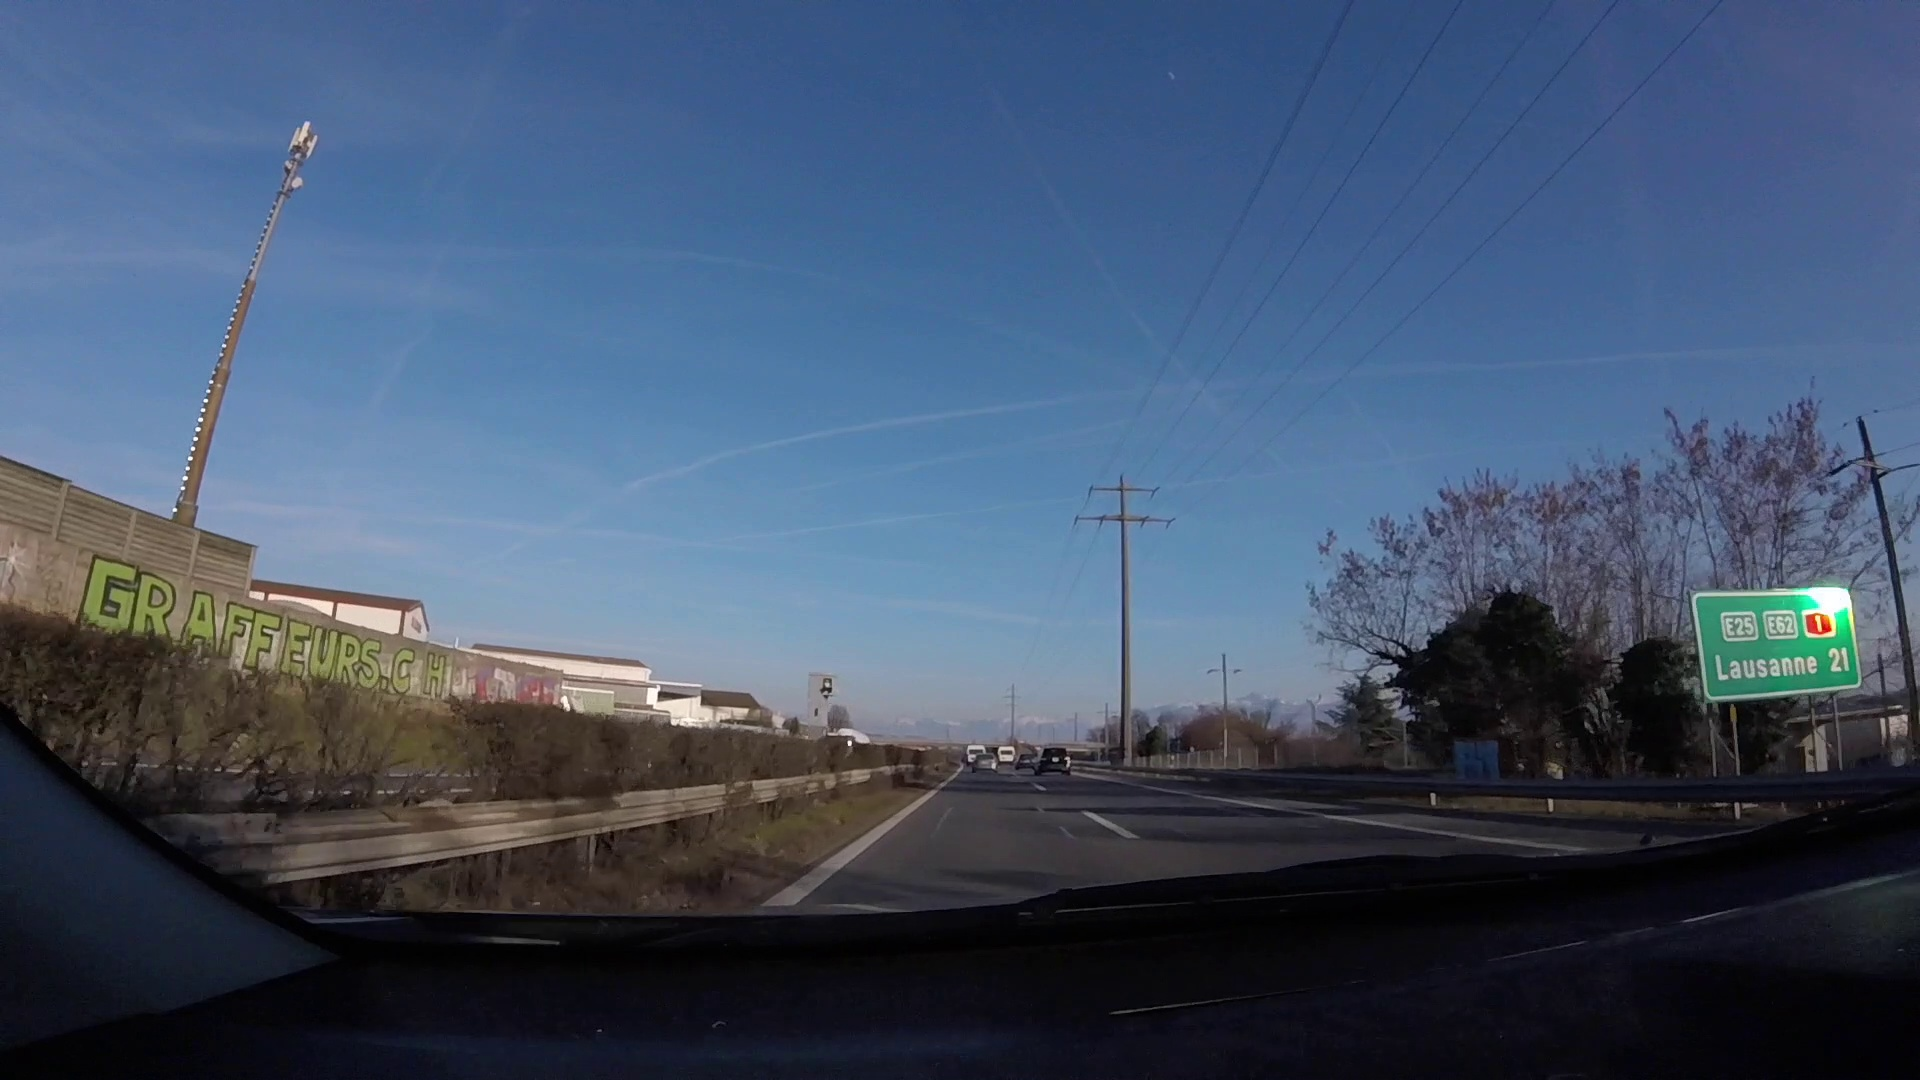radar: (804, 670, 843, 745)
